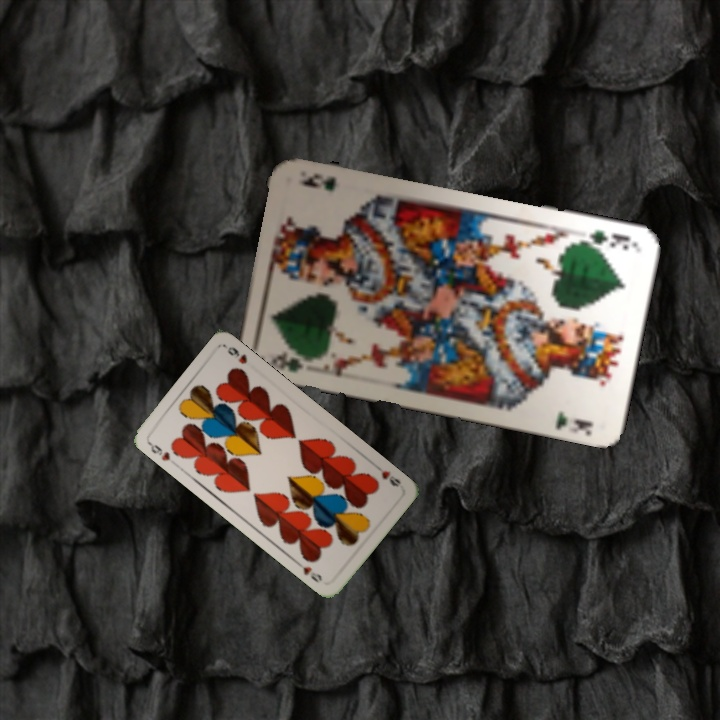GK: (575, 226, 636, 253), (261, 348, 317, 375)
H9: (145, 439, 173, 464), (377, 466, 403, 490)
